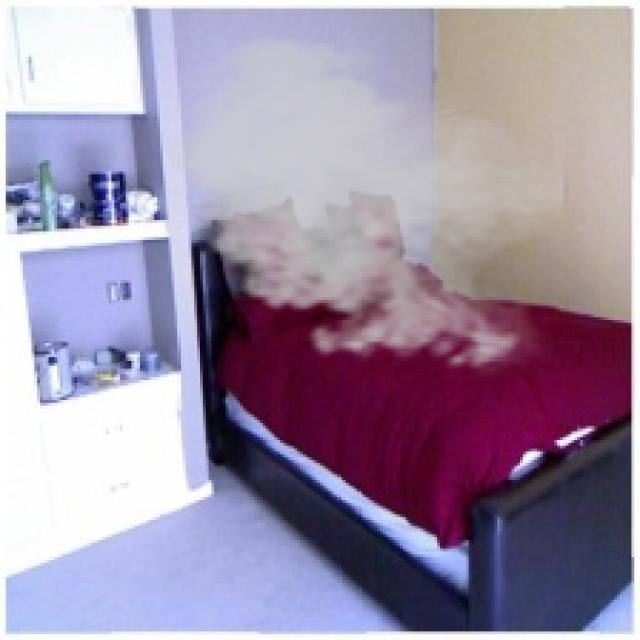Smoke: (152, 28, 568, 380)
